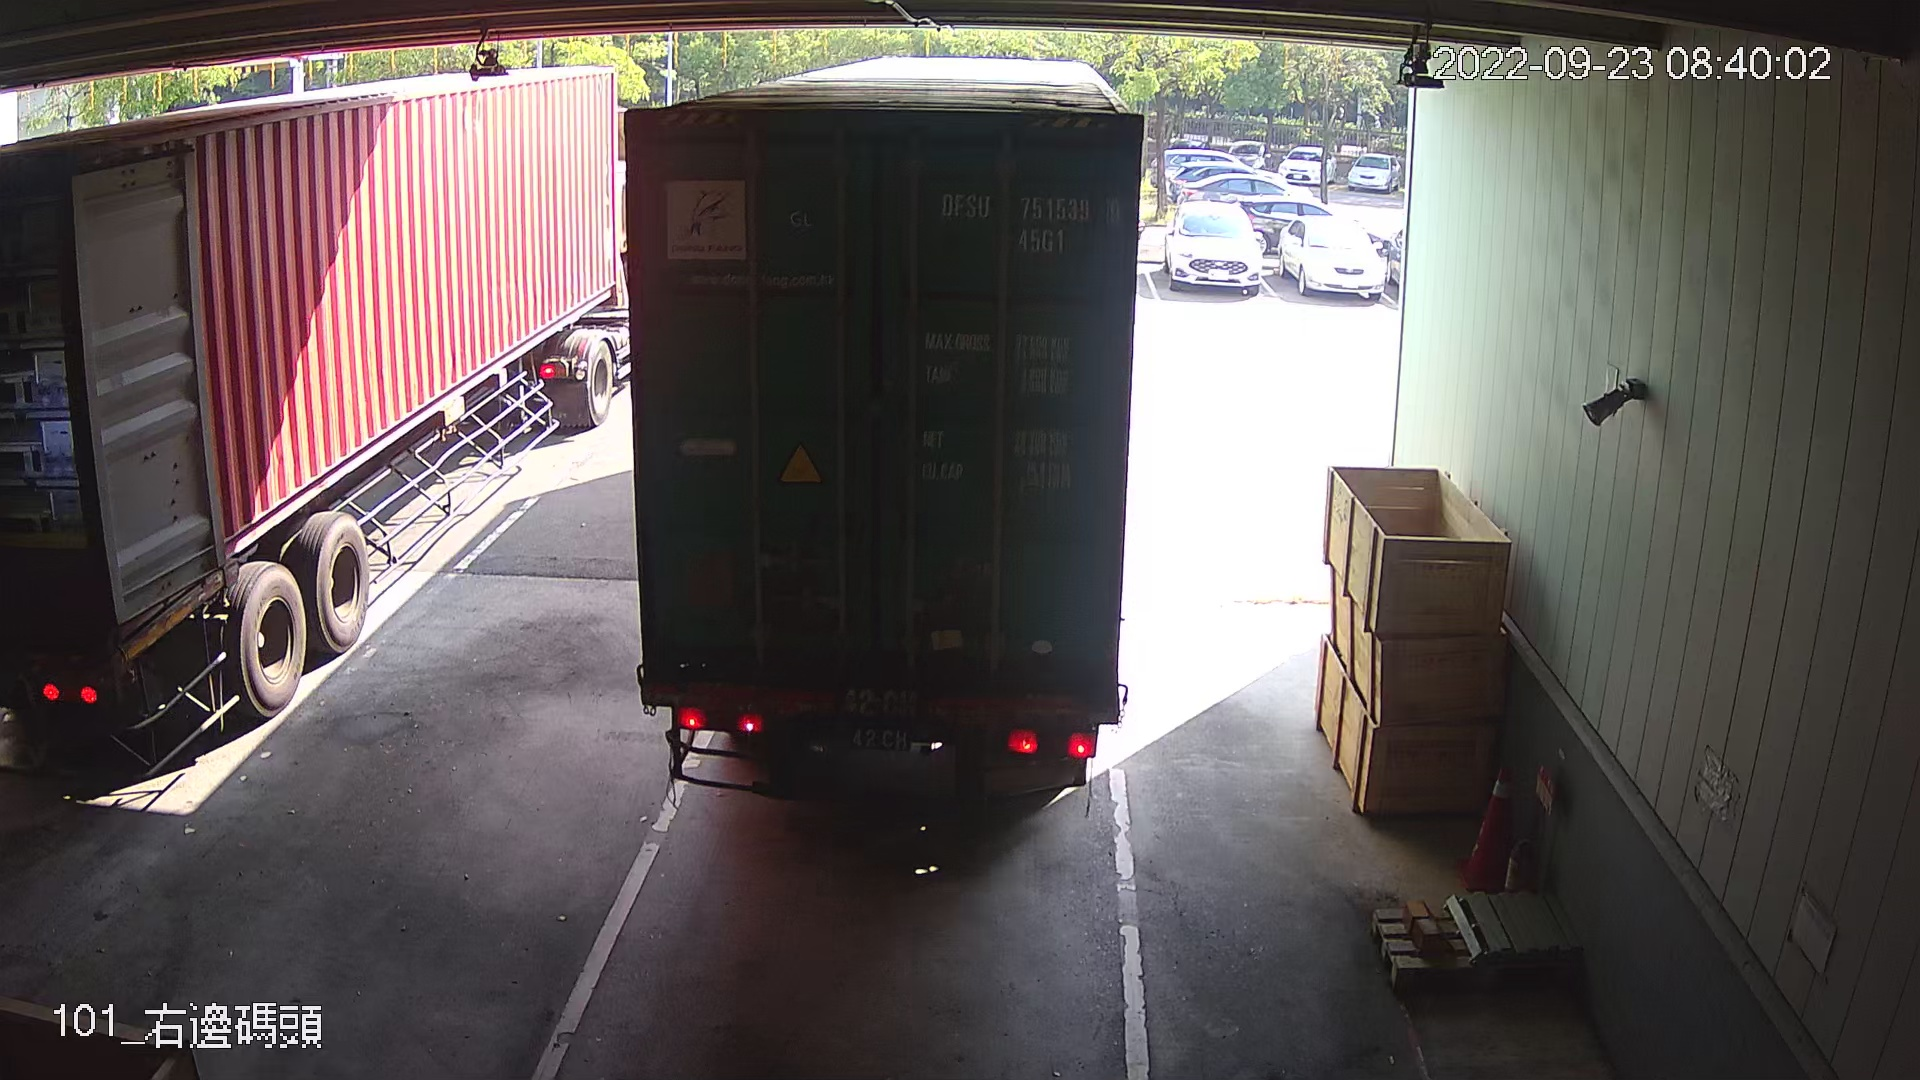container: (934, 182, 1127, 262)
